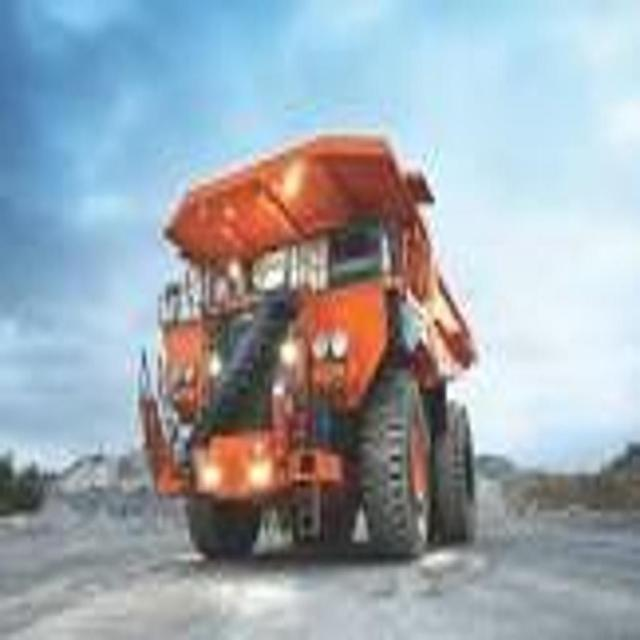dump_truck: (138, 124, 494, 567)
